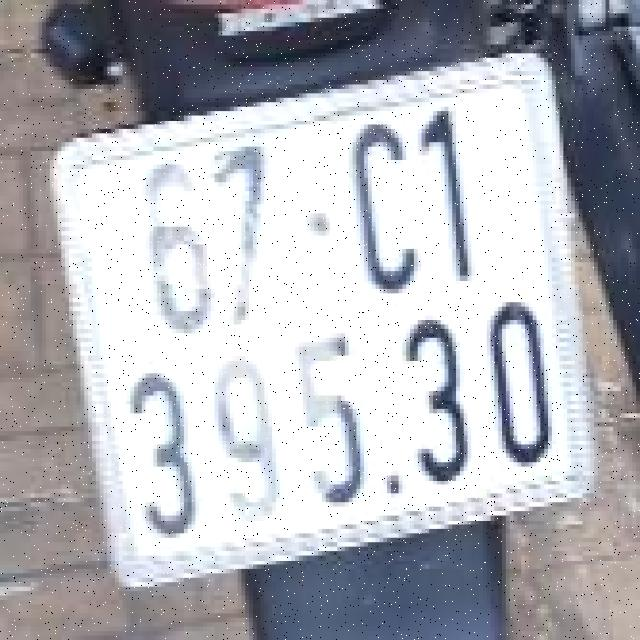0: (481, 296, 561, 478)
1: (416, 98, 485, 284)
3: (123, 358, 207, 549), (391, 304, 479, 486)
5: (284, 329, 372, 520)
6: (136, 154, 220, 336)
7: (203, 133, 284, 329)
9: (205, 336, 286, 536)
C: (336, 116, 424, 302)
